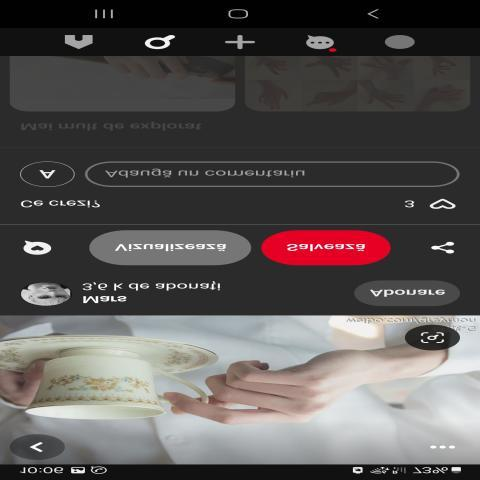Hands: (163, 336, 467, 454)
